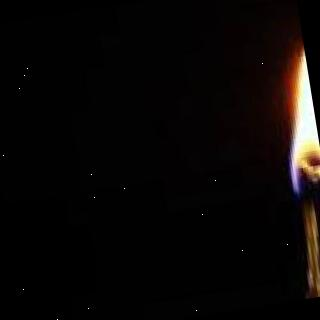fire: (271, 43, 320, 191)
